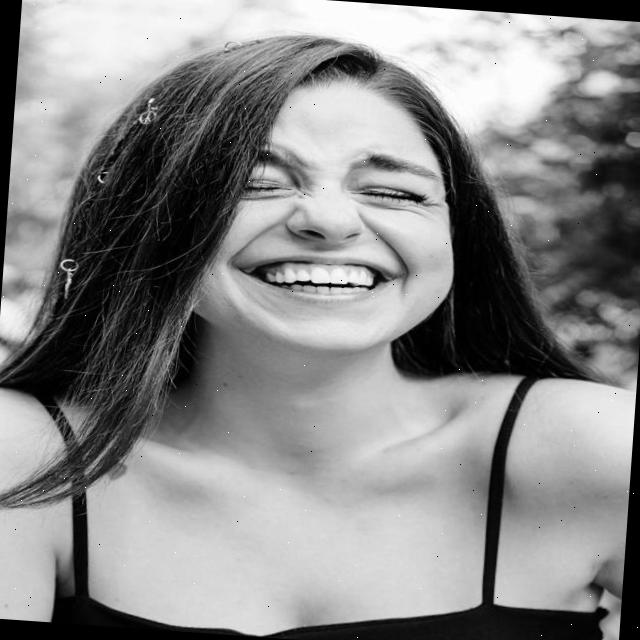Happiness: (170, 75, 463, 362)
